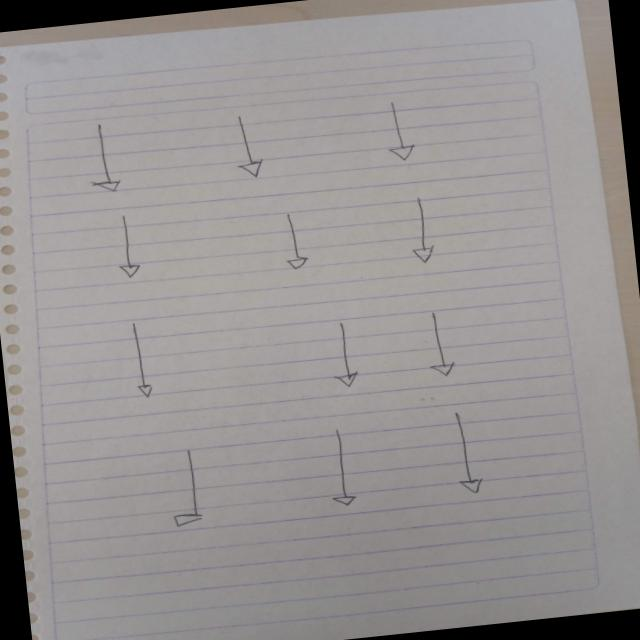arrow_line_down: (439, 407, 497, 501), (164, 446, 216, 534), (396, 196, 456, 268), (72, 122, 128, 198), (323, 320, 374, 400), (224, 105, 276, 182), (117, 323, 166, 402), (106, 210, 154, 288), (422, 310, 470, 386), (272, 207, 322, 279), (376, 98, 422, 168), (324, 430, 362, 514)
